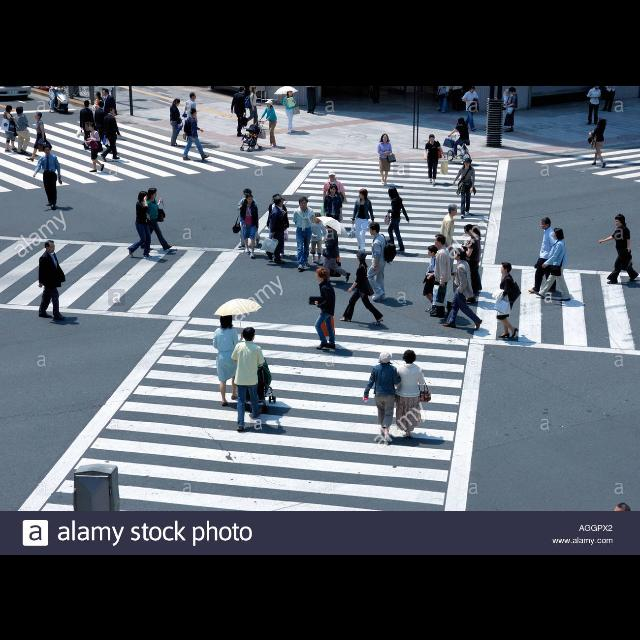head: (218, 312, 234, 326), (403, 348, 417, 364), (242, 327, 255, 341), (369, 221, 381, 235), (316, 267, 328, 281), (552, 227, 564, 239), (540, 217, 552, 229), (501, 262, 513, 274), (464, 224, 476, 236), (454, 248, 466, 260), (434, 234, 446, 246), (388, 186, 400, 198), (44, 240, 56, 252), (616, 214, 626, 226), (465, 224, 475, 236), (448, 204, 458, 216), (139, 190, 149, 202), (274, 196, 284, 207), (380, 352, 390, 363), (359, 188, 369, 198), (356, 252, 366, 262), (148, 188, 158, 198), (300, 197, 308, 209), (314, 212, 322, 224), (428, 245, 437, 255), (330, 184, 338, 194), (246, 193, 254, 203), (273, 194, 281, 204), (329, 170, 336, 180), (16, 106, 24, 114), (35, 111, 43, 119), (102, 88, 110, 96), (190, 108, 198, 116), (509, 86, 517, 94), (464, 158, 472, 166), (244, 190, 252, 198), (44, 144, 50, 154), (382, 132, 388, 142), (88, 122, 95, 130), (173, 98, 180, 106), (190, 92, 197, 100), (240, 85, 247, 93), (326, 223, 334, 230), (96, 90, 102, 98), (267, 100, 273, 108), (459, 116, 465, 124), (470, 85, 476, 93), (599, 118, 607, 124), (6, 105, 12, 112), (108, 108, 115, 114), (252, 85, 258, 92), (505, 88, 511, 95), (84, 100, 90, 106), (99, 100, 105, 106), (287, 89, 293, 95), (430, 134, 434, 142), (595, 85, 601, 88)
person: (388, 348, 432, 442), (362, 350, 403, 446), (230, 325, 266, 431), (212, 307, 250, 407), (442, 245, 484, 332), (339, 248, 385, 326), (598, 212, 640, 284), (527, 215, 561, 295), (306, 266, 338, 350), (37, 238, 69, 322), (535, 226, 571, 300), (366, 220, 396, 302), (492, 260, 522, 340), (453, 222, 482, 304), (138, 186, 174, 252), (429, 232, 455, 320), (319, 220, 353, 286), (32, 143, 64, 210), (348, 186, 377, 258), (260, 194, 288, 266), (126, 190, 154, 258), (320, 170, 348, 237), (460, 222, 484, 300), (231, 186, 261, 248), (449, 155, 478, 219), (292, 195, 316, 271), (385, 184, 411, 253), (436, 202, 459, 278), (422, 243, 446, 314), (181, 106, 211, 162), (266, 192, 290, 262), (322, 183, 344, 247), (25, 110, 53, 160), (76, 98, 102, 150), (308, 210, 332, 266), (240, 192, 260, 258), (92, 98, 116, 152), (100, 105, 122, 162), (424, 132, 446, 186), (99, 86, 119, 142), (377, 132, 397, 186), (85, 120, 105, 172), (258, 99, 278, 149), (588, 118, 608, 168), (242, 85, 260, 138), (448, 115, 470, 158), (13, 104, 31, 156), (230, 85, 248, 137), (462, 85, 481, 131), (182, 90, 198, 142), (282, 88, 300, 134), (2, 102, 18, 152), (503, 86, 519, 132), (92, 90, 105, 140), (586, 85, 602, 125), (170, 95, 182, 147), (502, 88, 514, 132)
